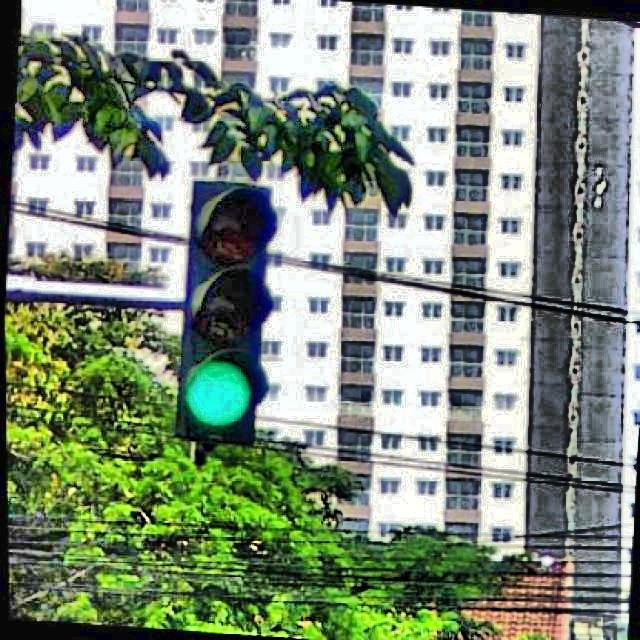green: (175, 178, 262, 452)
